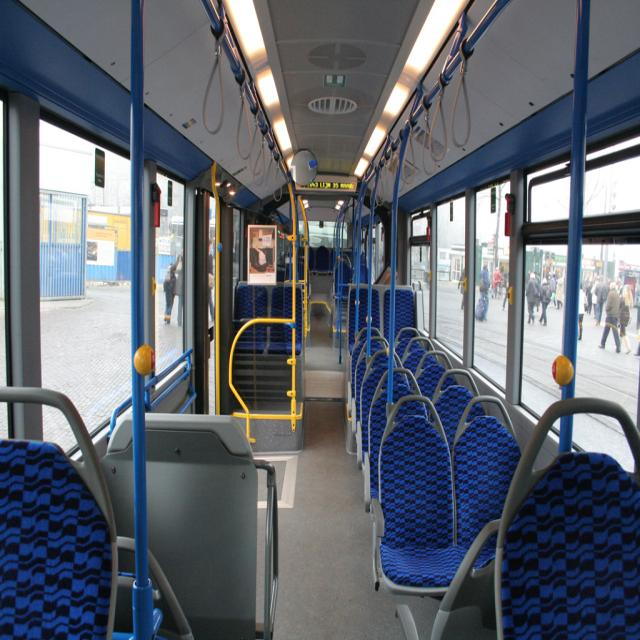empty-seat-frontal: (374, 393, 467, 595)
